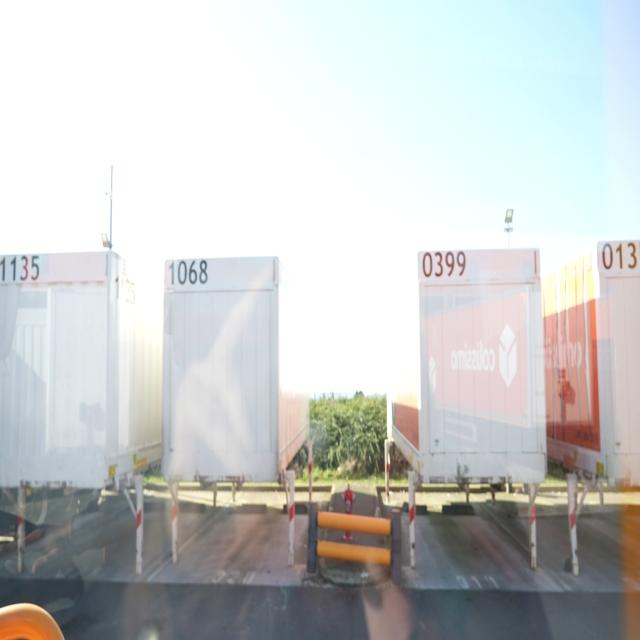Code: (164, 253, 212, 294), (0, 252, 45, 288), (420, 246, 469, 279)
